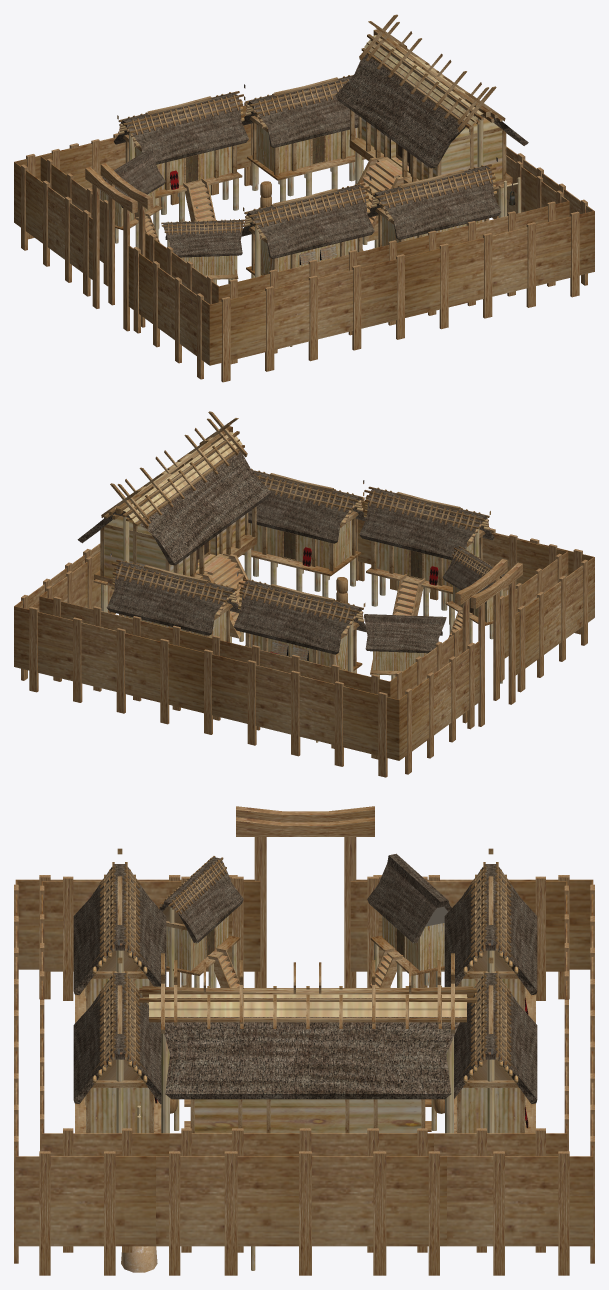
File: yayoi_wonder.dae
3 views of the same model, one above another, from view 1: azimuth 30°, elevation 25°; view 2: azimuth 150°, elevation 25°; view 3: azimuth 270°, elevation 25° (orthographic). The views are drawn at different scales.
Visible parts, largest first — view 1: wonder.002; view 2: wonder.002; view 3: wonder.002.
Part boxes in pixels (x1,y1,x2,y2): wonder.002: (14,14,594,382); wonder.002: (14,411,594,777); wonder.002: (14,806,594,1275).
Bounding box in the file's own units: 47.86 × 41.97 × 25.87.
